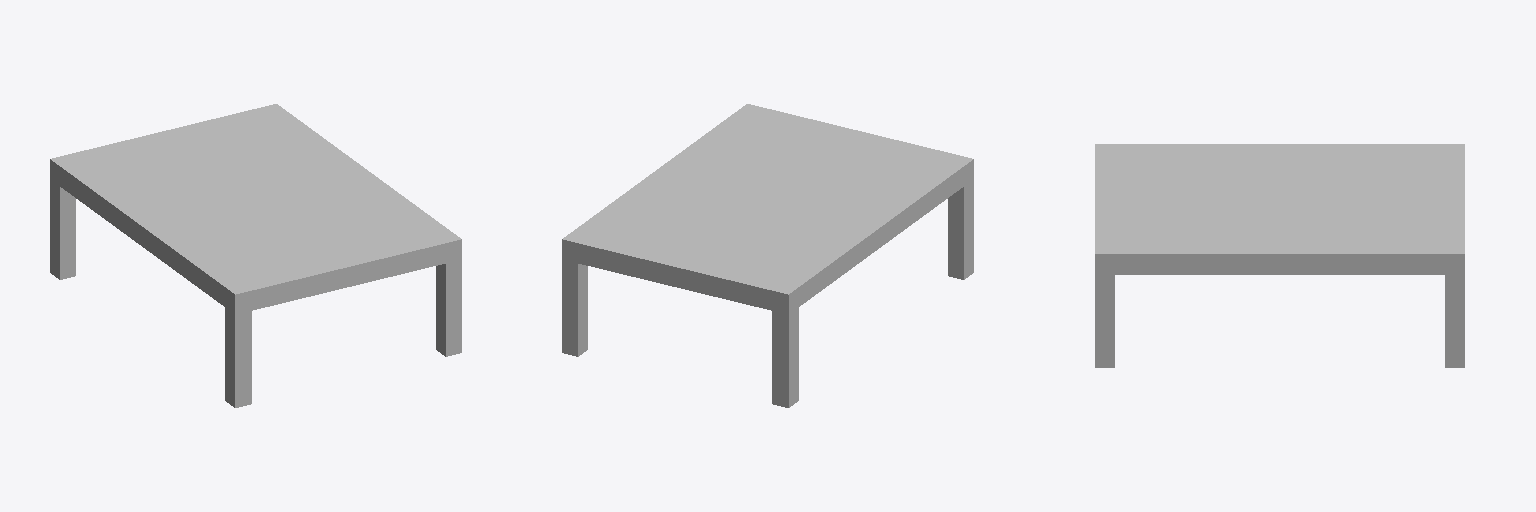
Rendered from Mesa.obj.
3 renders of one model, left to right at view 1: azimuth 30°, elevation 25°; view 2: azimuth 150°, elevation 25°; view 3: azimuth 270°, elevation 25°, orthographic.
Parts seen in each view (by area): view 1: Cube.001_Cube.010; view 2: Cube.001_Cube.010; view 3: Cube.001_Cube.010.
Boxes of the visible parts, x1,y1,x2,y2 form: Cube.001_Cube.010: [50, 104, 461, 407]; Cube.001_Cube.010: [562, 104, 973, 407]; Cube.001_Cube.010: [1095, 144, 1464, 367].
Size of the model in its own units: 2.57 by 1.23 by 3.63.